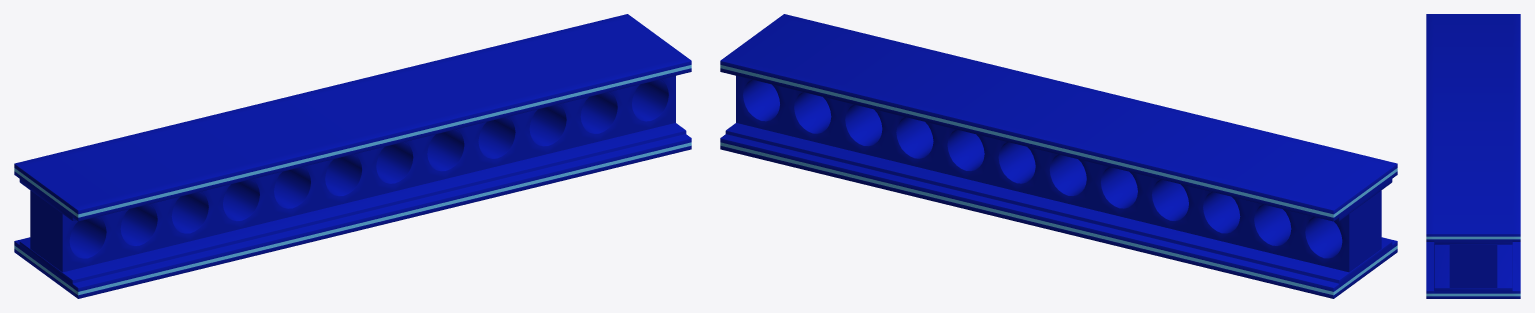
The model's file is Floor_LVL4.fbx.
The picture shows the model from 3 angles, left to right: view 1: azimuth 30°, elevation 25°; view 2: azimuth 150°, elevation 25°; view 3: azimuth 270°, elevation 25°; orthographic projection. The views are drawn at different scales.
Visible parts, largest first — view 1: Cube.009; view 2: Cube.009; view 3: Cube.009.
Boxes of the visible parts, bbox=[...] form: Cube.009: bbox=[14, 14, 691, 298]; Cube.009: bbox=[720, 14, 1397, 298]; Cube.009: bbox=[1426, 14, 1520, 298].
Size of the model in its own units: 1333 by 185 by 242.
